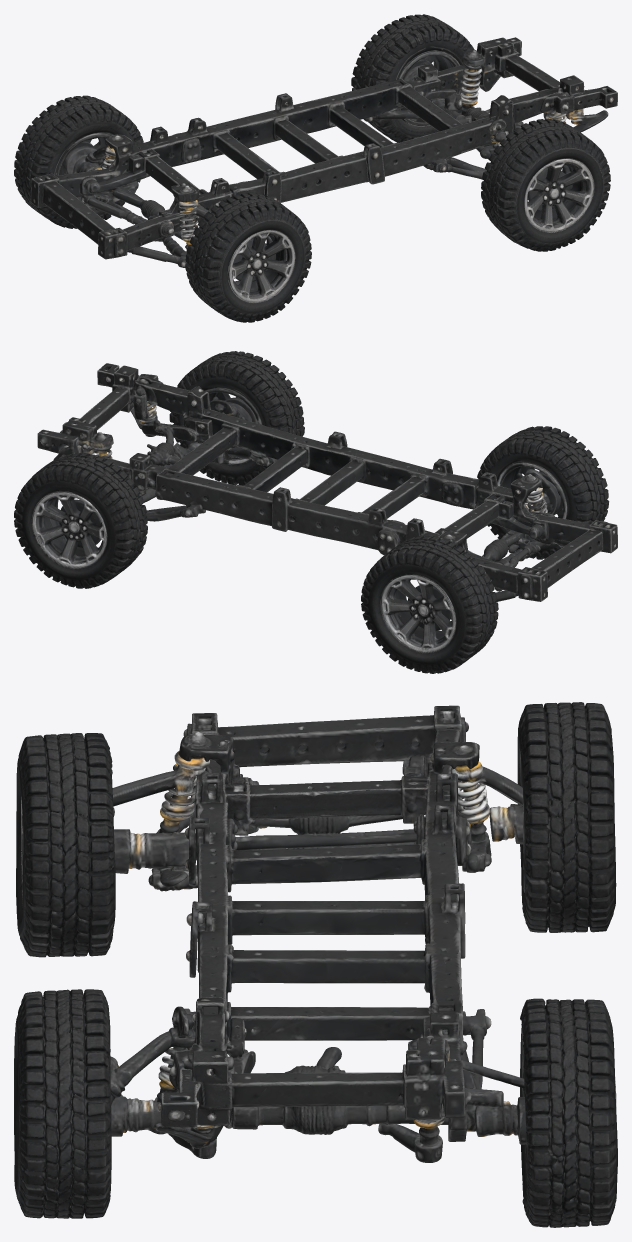
File: sasis-bensin-hq.glb
3 renders of one model, top to bottom at view 1: azimuth 30°, elevation 25°; view 2: azimuth 150°, elevation 25°; view 3: azimuth 270°, elevation 25°, orthographic. The views are drawn at different scales.
Size of the model in its own units: 1.89 by 0.4196 by 1.09.
Materials: 1 (1 with a texture image).
